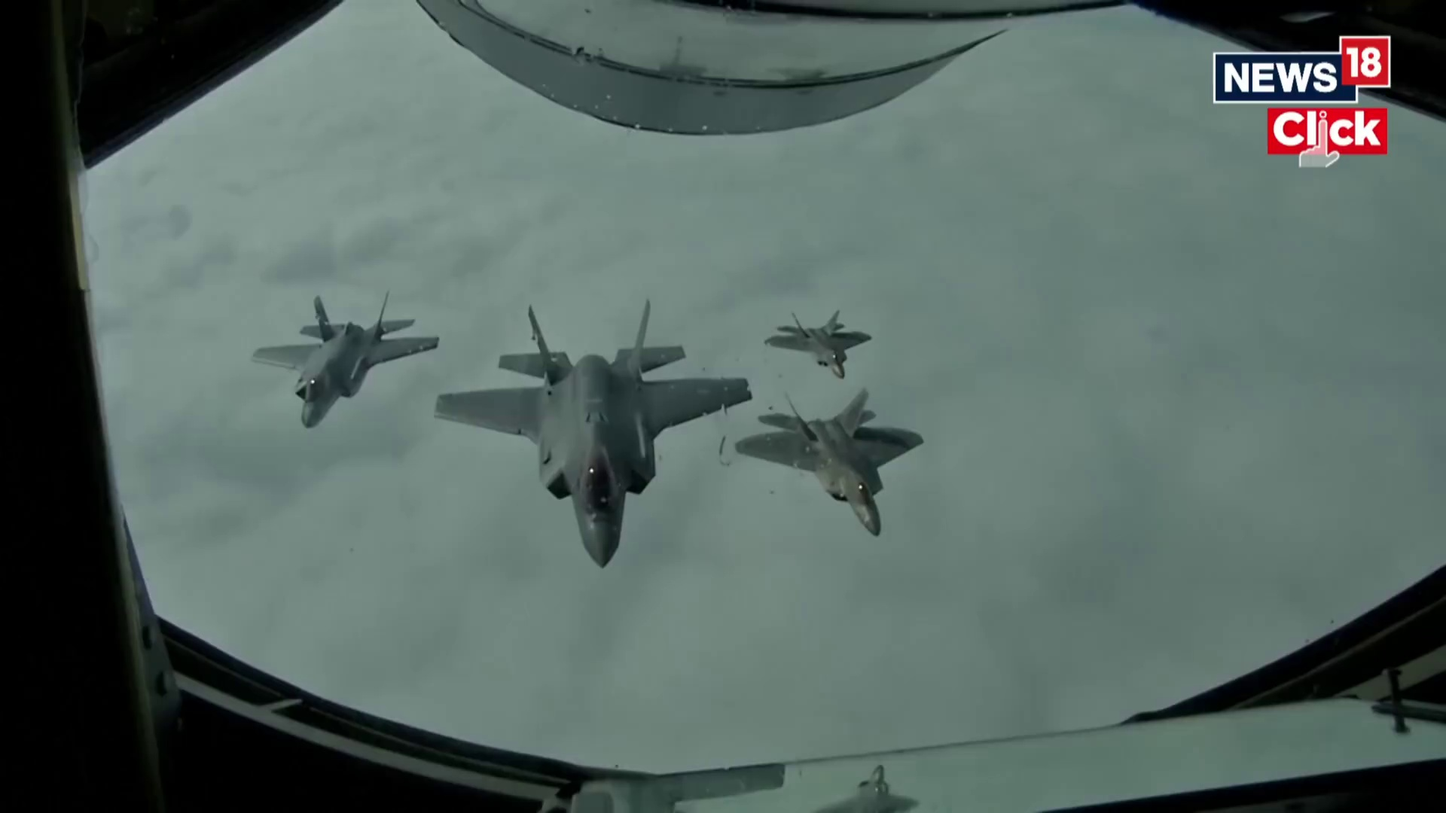F35: (434, 298, 753, 570), (734, 387, 927, 538), (250, 291, 439, 429), (764, 310, 873, 380)
